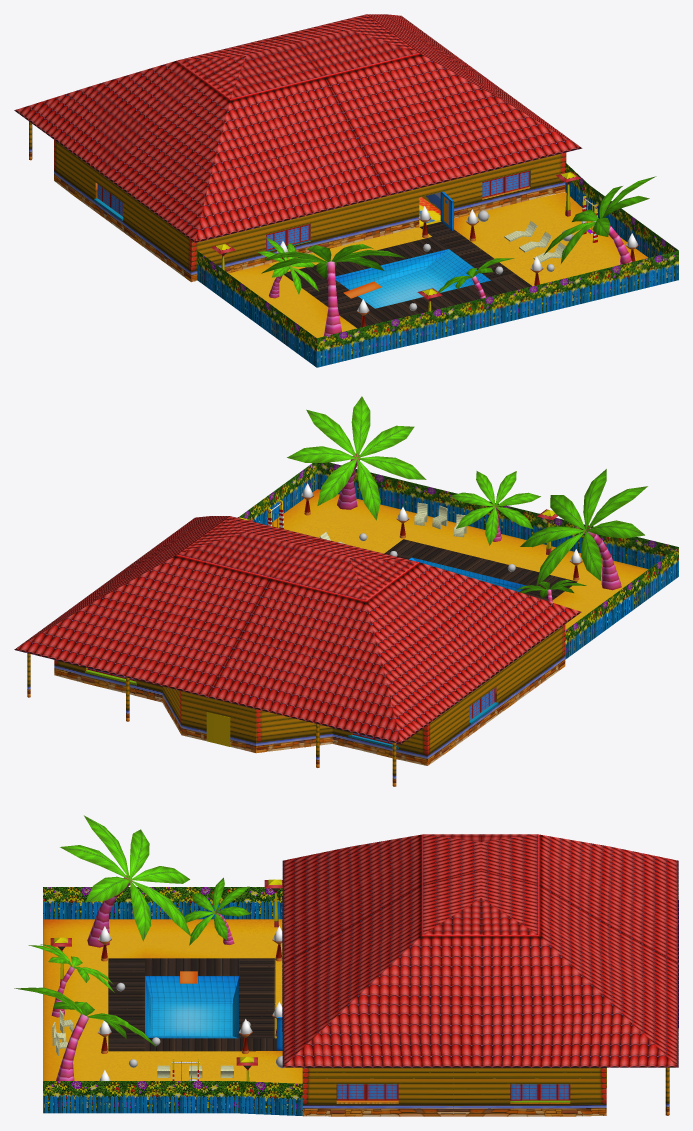
The model's file is interior-02.FBX.
3 views of the same model, one above another, from view 1: azimuth 30°, elevation 25°; view 2: azimuth 150°, elevation 25°; view 3: azimuth 270°, elevation 25° (orthographic). The views are drawn at different scales.
Parts seen in each view (by area): view 1: roof, backyard-terrain, walls, Cylinder03, Cylinder04, Object04, Cylinder05, _proxyGeneral, Cylinder06; view 2: roof, backyard-terrain, walls, Cylinder04, Cylinder03, Cylinder06, _proxyGeneral, Object04; view 3: roof, backyard-terrain, walls, Cylinder03, Object04, Cylinder04, Cylinder05, Cylinder06, _proxyGeneral.
Boxes of the visible parts, x1,y1,x2,y2 form: roof: [14, 14, 582, 242]; backyard-terrain: [197, 162, 678, 367]; walls: [29, 121, 566, 298]; Cylinder03: [261, 244, 406, 336]; Cylinder04: [544, 176, 656, 264]; Object04: [97, 170, 529, 250]; Cylinder05: [258, 237, 319, 298]; _proxyGeneral: [94, 170, 530, 251]; Cylinder06: [438, 258, 514, 298]; roof: [14, 516, 581, 744]; backyard-terrain: [239, 462, 678, 659]; walls: [27, 624, 565, 786]; Cylinder04: [287, 396, 426, 520]; Cylinder03: [520, 469, 647, 590]; Cylinder06: [450, 471, 540, 545]; _proxyGeneral: [85, 667, 498, 749]; Object04: [87, 668, 495, 745]; roof: [282, 834, 678, 1067]; backyard-terrain: [43, 887, 302, 1115]; walls: [180, 971, 669, 1116]; Cylinder03: [60, 815, 191, 947]; Object04: [336, 1084, 570, 1100]; Cylinder04: [14, 987, 156, 1080]; Cylinder05: [184, 877, 250, 945]; Cylinder06: [28, 944, 114, 1017]; _proxyGeneral: [336, 1068, 606, 1103].
Size of the model in its own units: 18.33 by 6.89 by 24.9.
